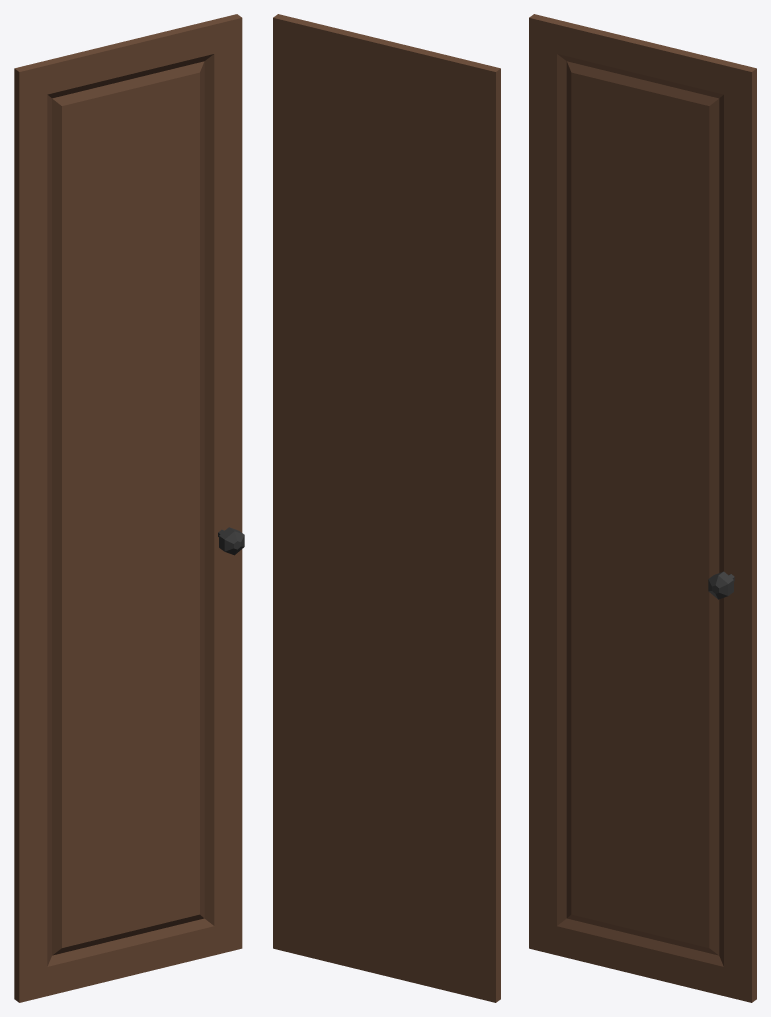
The model's file is Wardrobe7_C3_07.fbx.
3 renders of one model, left to right at view 1: azimuth 30°, elevation 25°; view 2: azimuth 150°, elevation 25°; view 3: azimuth 330°, elevation 25°, orthographic.
Parts seen in each view (by area): view 1: Wardrobe7_C3_07; view 2: Wardrobe7_C3_07; view 3: Wardrobe7_C3_07.
Part boxes in pixels (x1,y1,x2,y2): Wardrobe7_C3_07: [14, 14, 244, 1002]; Wardrobe7_C3_07: [273, 14, 500, 1002]; Wardrobe7_C3_07: [529, 14, 756, 1002].
Size of the model in its own units: 50 by 200 by 8.1.
